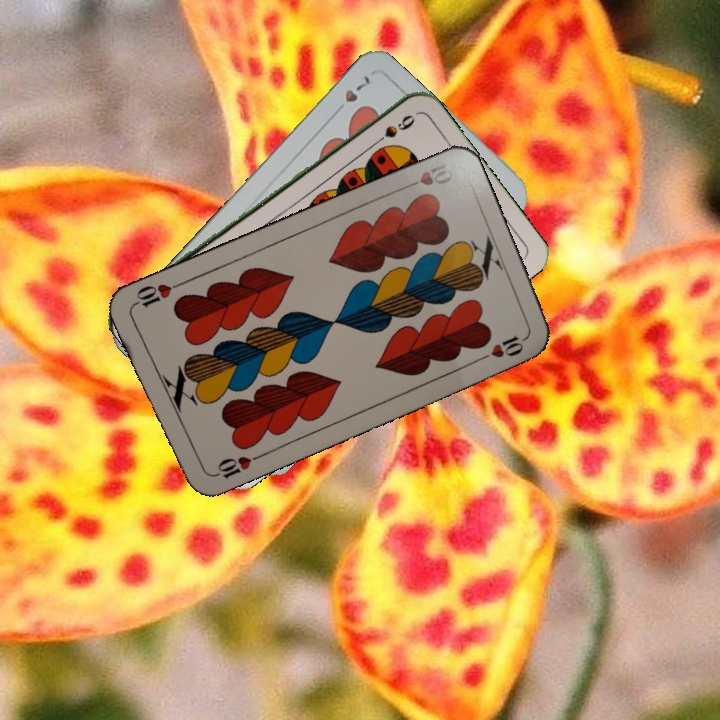H10: (399, 156, 456, 193), (206, 451, 263, 481)
H7: (329, 71, 373, 118)
S9: (367, 110, 417, 151)
